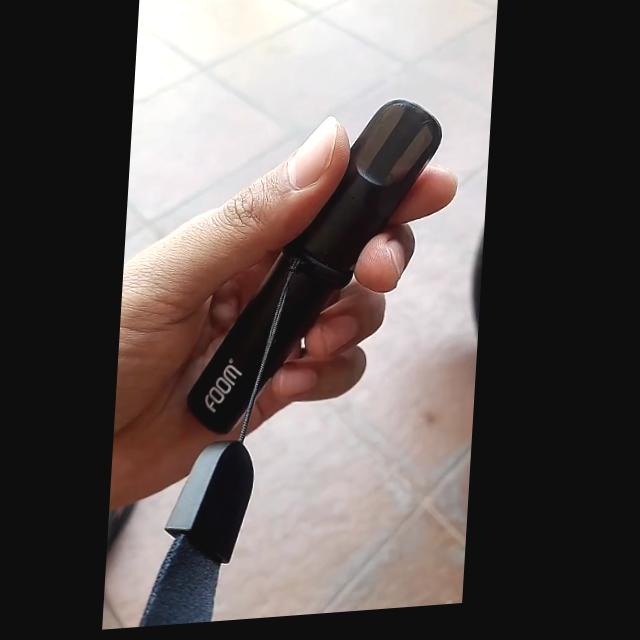vape: (195, 99, 446, 440)
